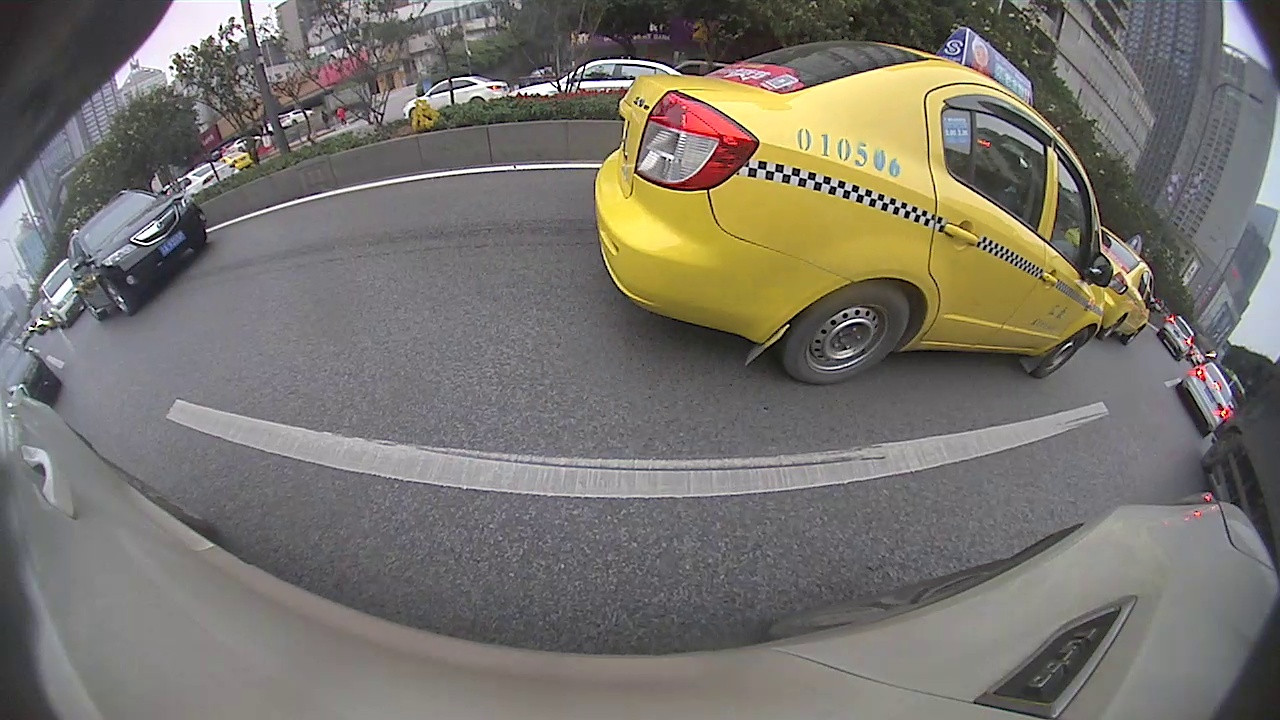car: (59, 132, 393, 382), (0, 285, 95, 429), (697, 137, 843, 224), (476, 149, 566, 209), (376, 182, 431, 218)
front: (362, 218, 389, 268), (698, 176, 712, 202)
person: (1095, 172, 1113, 273)
rear: (164, 305, 234, 376), (726, 183, 739, 214), (536, 178, 549, 201)
